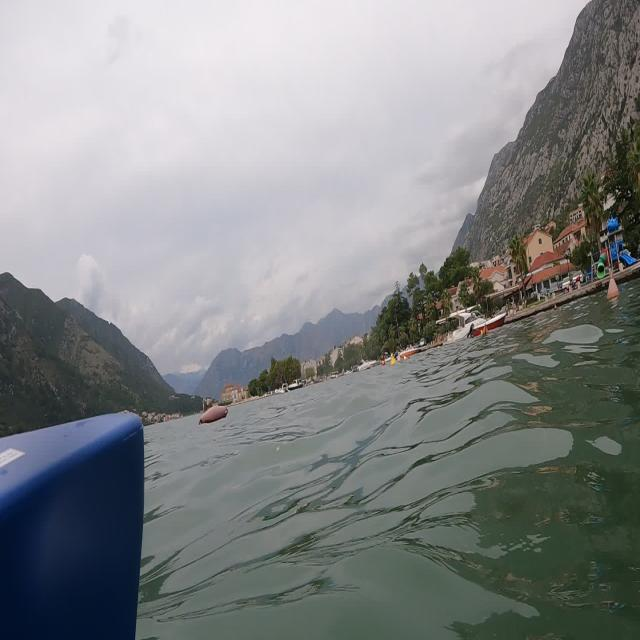boat: (442, 303, 508, 344)
buoy: (194, 399, 233, 430), (598, 267, 623, 304)
